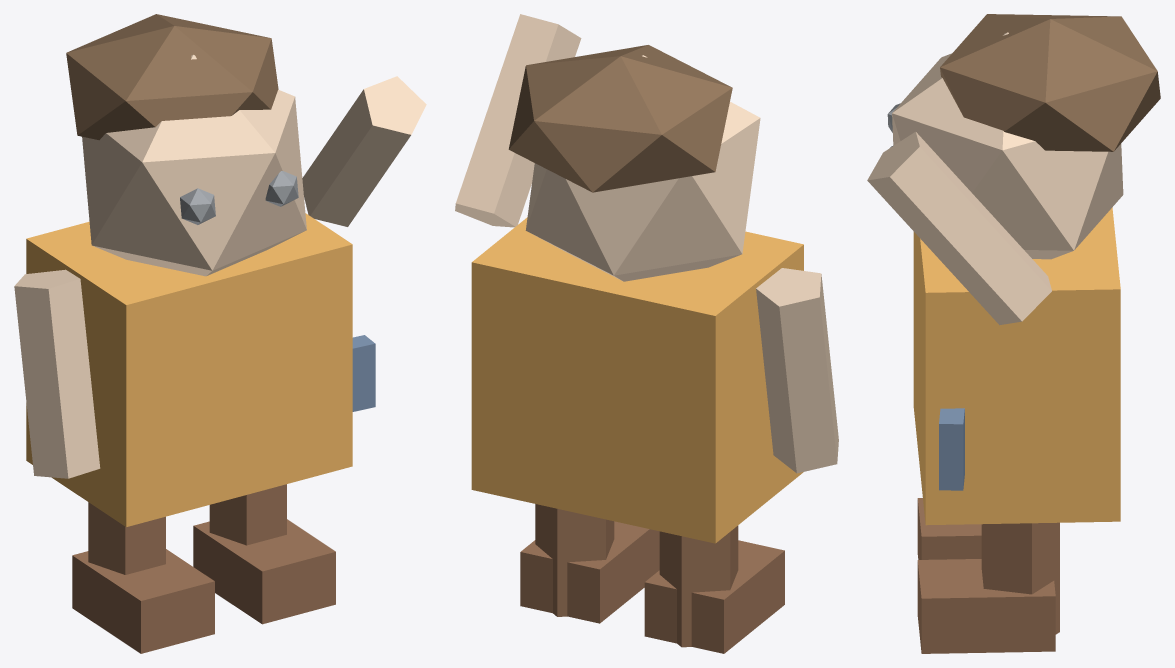
The model's file is npcpose_villager_wave_02.glb.
3 renders of one model, left to right at view 1: azimuth 30°, elevation 25°; view 2: azimuth 150°, elevation 25°; view 3: azimuth 270°, elevation 25°, orthographic. The views are drawn at different scales.
Parts seen in each view (by area): view 1: npcpose; view 2: npcpose; view 3: npcpose.
Boxes of the visible parts, bbox=[...] form: npcpose: bbox=[14, 14, 426, 653]; npcpose: bbox=[455, 14, 838, 653]; npcpose: bbox=[867, 14, 1160, 653].
Bounding box in the file's own units: 0.698 × 1.06 × 0.4811.
